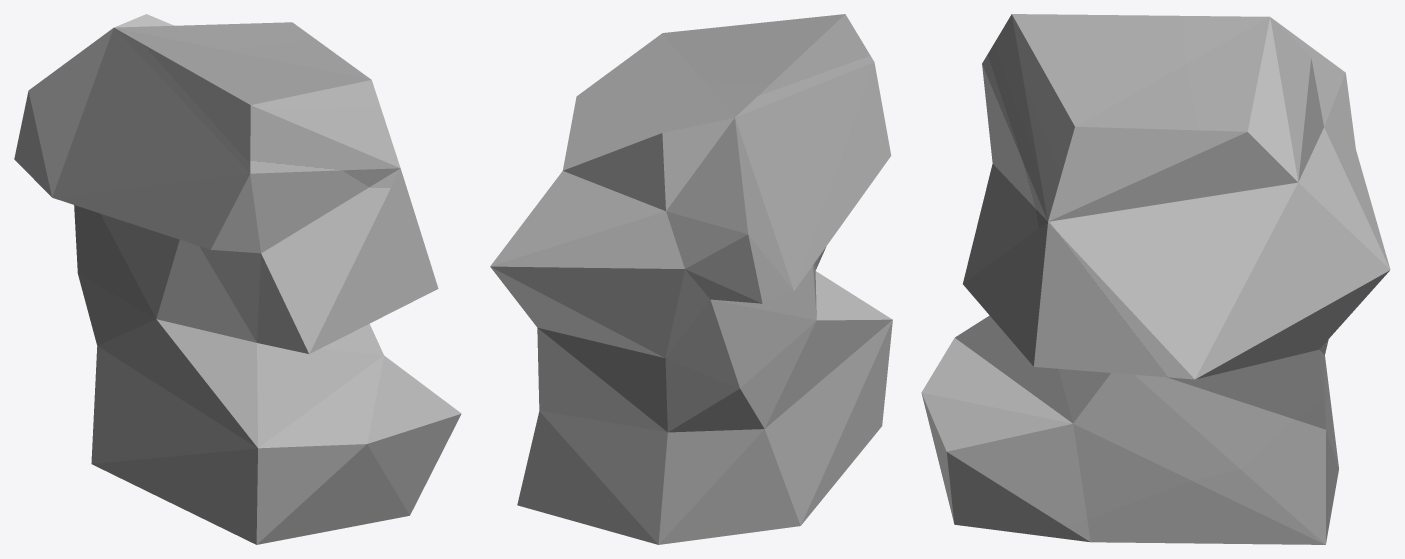
Rendered from EA01_Env_Rock_01a.glb.
3 views of the same model, side by side, from view 1: azimuth 30°, elevation 25°; view 2: azimuth 150°, elevation 25°; view 3: azimuth 270°, elevation 25° (orthographic). The views are drawn at different scales.
Visible parts, largest first — view 1: EA01_Env_Rock_01a; view 2: EA01_Env_Rock_01a; view 3: EA01_Env_Rock_01a.
Boxes of the visible parts, left/top/right/bottom form: EA01_Env_Rock_01a: left=14, top=14, right=461, bottom=544; EA01_Env_Rock_01a: left=490, top=14, right=892, bottom=544; EA01_Env_Rock_01a: left=921, top=14, right=1390, bottom=544.
Size of the model in its own units: 4.11 by 5.43 by 5.2.
Materials: 1 (1 with a texture image).
